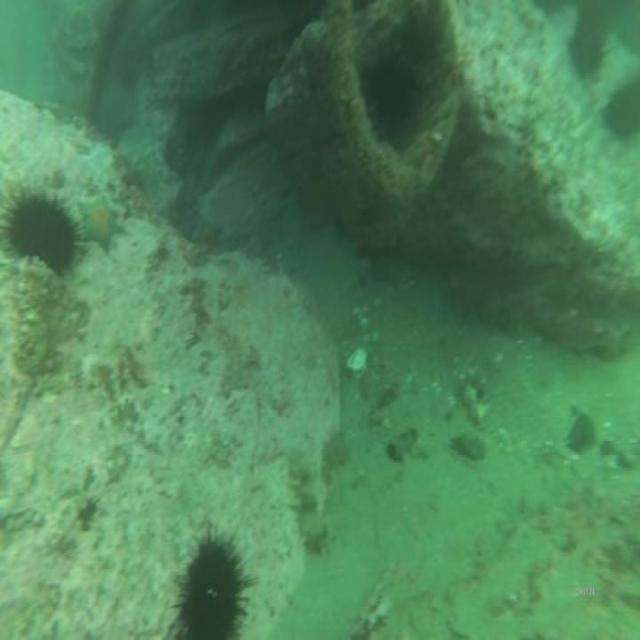echinus: (172, 521, 258, 640), (0, 174, 92, 278), (565, 8, 615, 77), (600, 68, 639, 147)
holothurian: (289, 447, 325, 553)
starfish: (75, 190, 124, 254)
